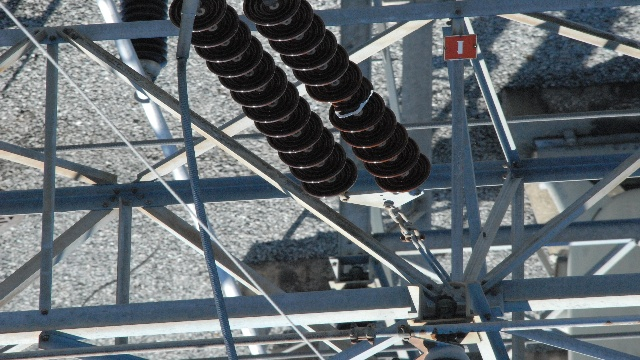broken_local: (331, 83, 377, 121)
insulator_unspecified: (170, 0, 433, 198)
